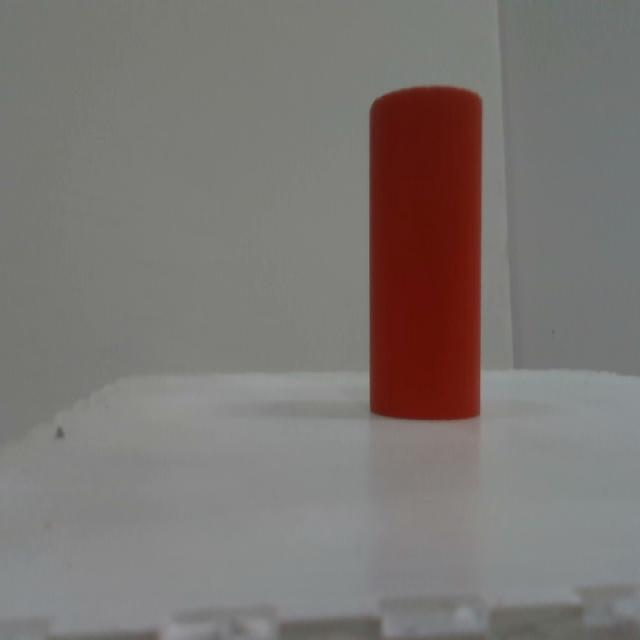red_cylinder: (369, 84, 483, 423)
